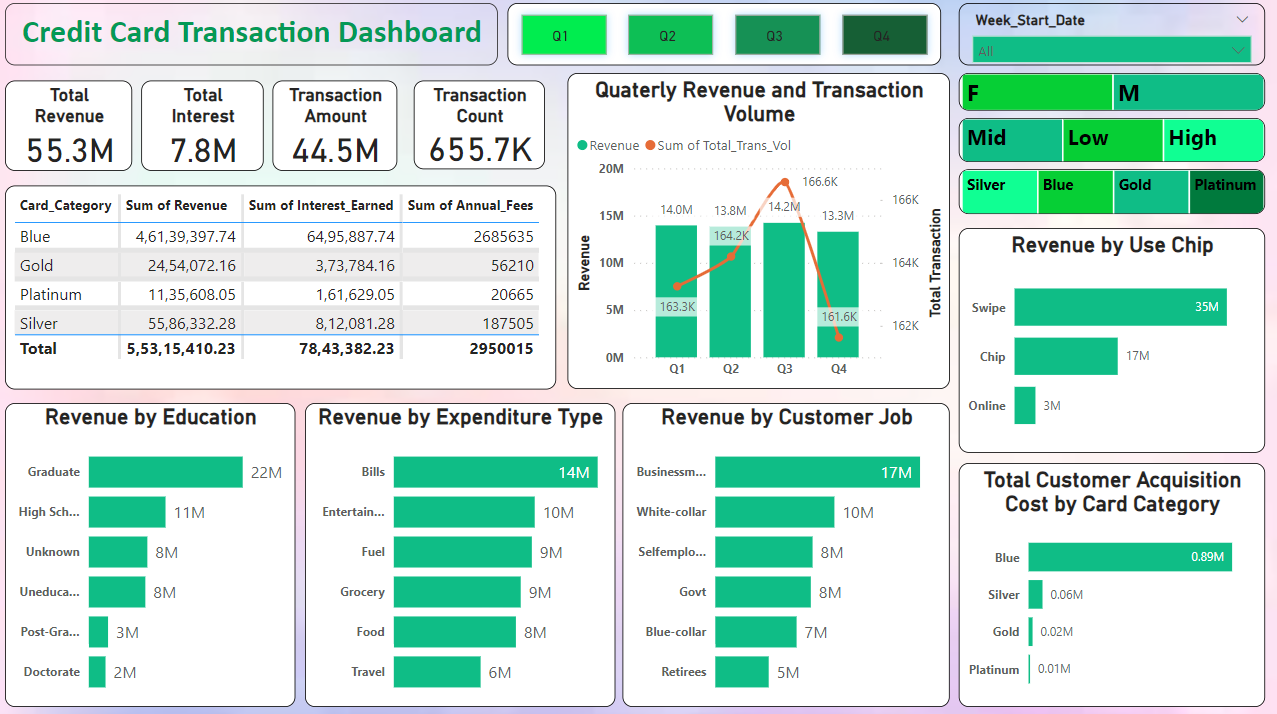

This screenshot's page, from the dashboard's own definition file:
{"tool":"powerbi","page":{"name":"Credit_Card_Detail","canvas":[1280,720],"ordinal":0},"visuals":[{"type":"textbox","box":[5,5,492.5,62.5],"z":0},{"type":"card","title":"Total Revenue","fields":{"Values":["Sum(credit_card.Revenue)"]},"box":[5,82.5,127.5,90],"z":1000},{"type":"card","title":"Total Interest","fields":{"Values":["Sum(credit_card.Interest_Earned)"]},"box":[141.2,82.5,122.5,90],"z":2000},{"type":"card","title":"Transaction Amount","fields":{"Values":["Sum(credit_card.Total_Trans_Amt)"]},"box":[272.5,82.5,125,90],"z":3000},{"type":"card","title":"Transaction Count","fields":{"Values":["Sum(credit_card.Total_Trans_Vol)"]},"box":[413.8,82.5,131.2,88.8],"z":4000},{"type":"tableEx","fields":{"Values":["credit_card.Card_Category","Sum(credit_card.Revenue)","Sum(credit_card.Interest_Earned)","Sum(credit_card.Annual_Fees)"]},"box":[5,187.5,551.2,203.8],"z":5000},{"type":"lineStackedColumnComboChart","title":"Quaterly Revenue and Transaction Volume","fields":{"Y":["Sum(credit_card.Revenue)"],"Category":["credit_card.Qtr"],"Y2":["Sum(credit_card.Total_Trans_Vol)"]},"box":[567.5,75,382.5,316.2],"z":6000},{"type":"barChart","title":"Revenue by Expenditure Type","fields":{"Y":["Sum(credit_card.Revenue)"],"Category":["credit_card.Exp Type"]},"box":[305,405,310,303.8],"z":7000},{"type":"barChart","title":"Revenue by Education","fields":{"Y":["Sum(credit_card.Revenue)"],"Category":["customer.Education_Level"]},"box":[5,405,290,303.8],"z":8000},{"type":"barChart","title":"Revenue by Customer Job","fields":{"Y":["Sum(credit_card.Revenue)"],"Category":["customer.Customer_Job"]},"box":[622.5,405,327.5,303.8],"z":9000},{"type":"barChart","title":"Revenue by Use Chip","fields":{"Y":["Sum(credit_card.Revenue)"],"Category":["credit_card.Use Chip"]},"box":[958.8,230,306.2,225],"z":10000},{"type":"barChart","title":"Total Customer Acquisition Cost by Card Category","fields":{"Category":["credit_card.Card_Category"],"Y":["Sum(credit_card.Customer_Acq_Cost)"]},"box":[958.8,465,306.2,243.8],"z":11000},{"type":"advancedSlicerVisual","fields":{"Values":["credit_card.Qtr"]},"box":[507.5,5,433.8,62.5],"z":12000},{"type":"slicer","fields":{"Values":["credit_card.Week_Start_Date"]},"box":[958.8,5,306.2,62.5],"z":13000},{"type":"treemap","fields":{"Group":["customer.Gender"],"Values":["Avg(credit_card.Client_Num)"]},"box":[958.8,75,306.2,37.5],"z":13001},{"type":"treemap","fields":{"Group":["customer.Income_Group"],"Values":["Avg(credit_card.Client_Num)"]},"box":[958.8,120,306.2,43.8],"z":13002},{"type":"treemap","fields":{"Group":["credit_card.Card_Category"],"Values":["Avg(credit_card.Client_Num)"]},"box":[958.8,171.2,306.2,45],"z":13003}]}

Visuals, with their boxes in screenshot pixels (x1, y1, x2, y2), scaled from the page's 1280x720 canvas onto the 1277x714 screenshot:
textbox: {"x1": 5, "y1": 5, "x2": 496, "y2": 67}
"Total Revenue" card: {"x1": 5, "y1": 82, "x2": 132, "y2": 171}
"Total Interest" card: {"x1": 141, "y1": 82, "x2": 263, "y2": 171}
"Transaction Amount" card: {"x1": 272, "y1": 82, "x2": 397, "y2": 171}
"Transaction Count" card: {"x1": 413, "y1": 82, "x2": 544, "y2": 170}
tableEx - credit_card.Card_Category x Sum(credit_card.Revenue): {"x1": 5, "y1": 186, "x2": 555, "y2": 388}
"Quaterly Revenue and Transaction Volume" lineStackedColumnComboChart: {"x1": 566, "y1": 74, "x2": 948, "y2": 388}
"Revenue by Expenditure Type" barChart: {"x1": 304, "y1": 402, "x2": 614, "y2": 703}
"Revenue by Education" barChart: {"x1": 5, "y1": 402, "x2": 294, "y2": 703}
"Revenue by Customer Job" barChart: {"x1": 621, "y1": 402, "x2": 948, "y2": 703}
"Revenue by Use Chip" barChart: {"x1": 957, "y1": 228, "x2": 1262, "y2": 451}
"Total Customer Acquisition Cost by Card Category" barChart: {"x1": 957, "y1": 461, "x2": 1262, "y2": 703}
advancedSlicerVisual - credit_card.Qtr: {"x1": 506, "y1": 5, "x2": 939, "y2": 67}
slicer - credit_card.Week_Start_Date: {"x1": 957, "y1": 5, "x2": 1262, "y2": 67}
treemap - customer.Gender x Avg(credit_card.Client_Num): {"x1": 957, "y1": 74, "x2": 1262, "y2": 112}
treemap - customer.Income_Group x Avg(credit_card.Client_Num): {"x1": 957, "y1": 119, "x2": 1262, "y2": 162}
treemap - credit_card.Card_Category x Avg(credit_card.Client_Num): {"x1": 957, "y1": 170, "x2": 1262, "y2": 214}
